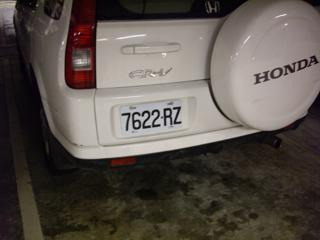plate: (118, 103, 184, 134)
